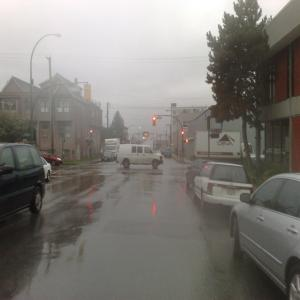Vehicle-registration-plate: (227, 189, 237, 196)
